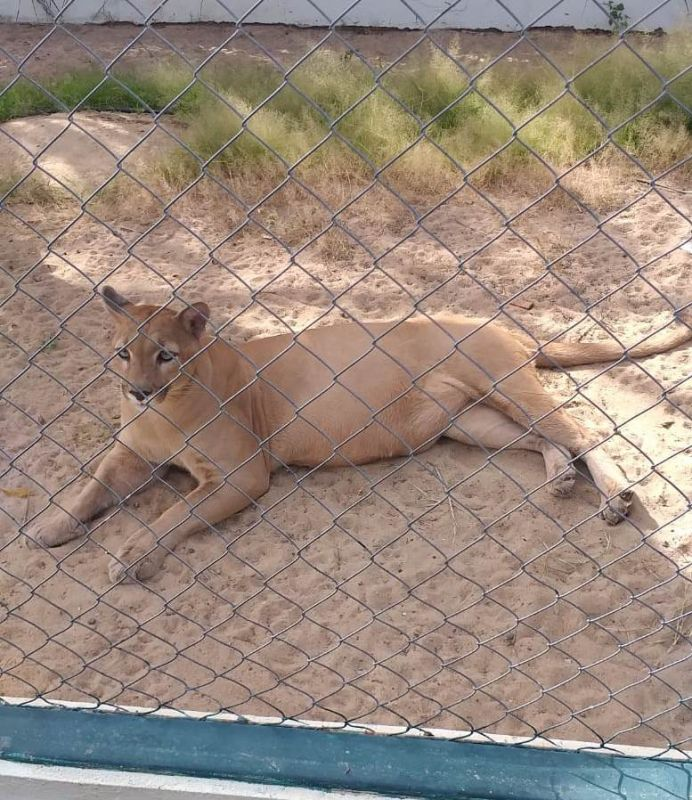OncaParda: (16, 280, 669, 593)
